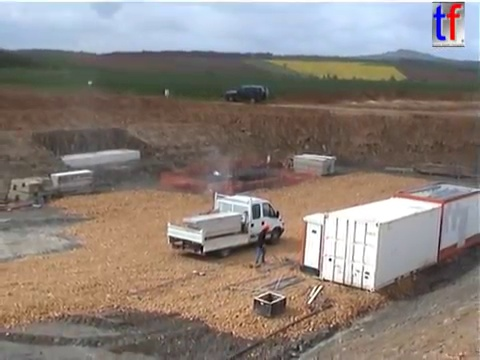truck: (165, 189, 287, 259)
worker: (251, 222, 273, 266)
